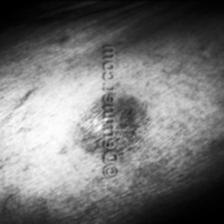Potentially Malignant Skin Tumors: (74, 91, 146, 155)
